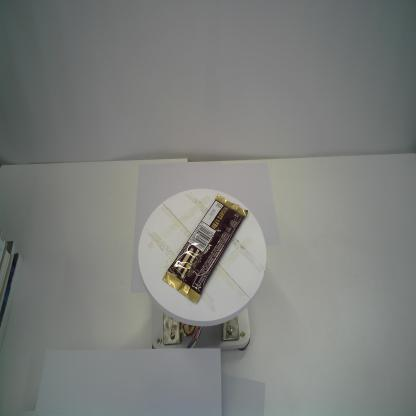Chocolate: (162, 193, 249, 305)
